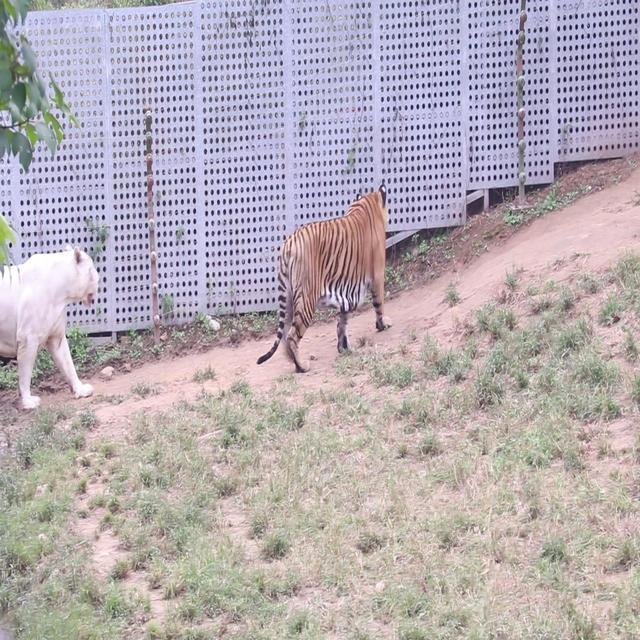tiger: (255, 183, 392, 373), (0, 245, 100, 411)
